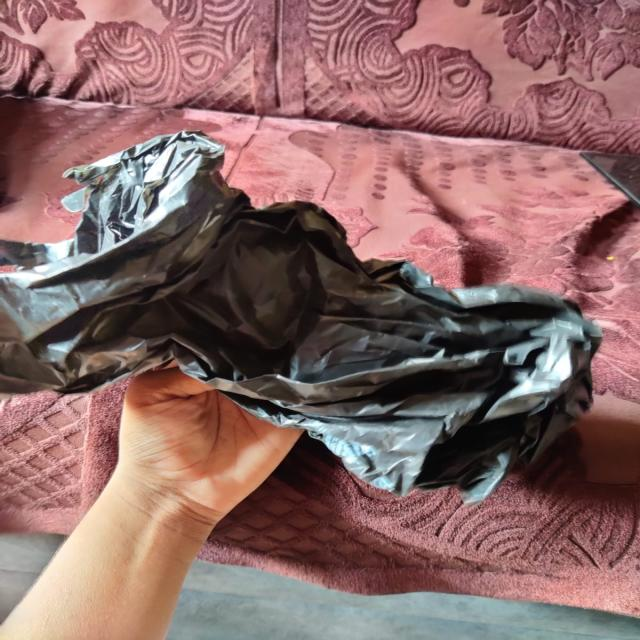Dry: (27, 92, 600, 512)
